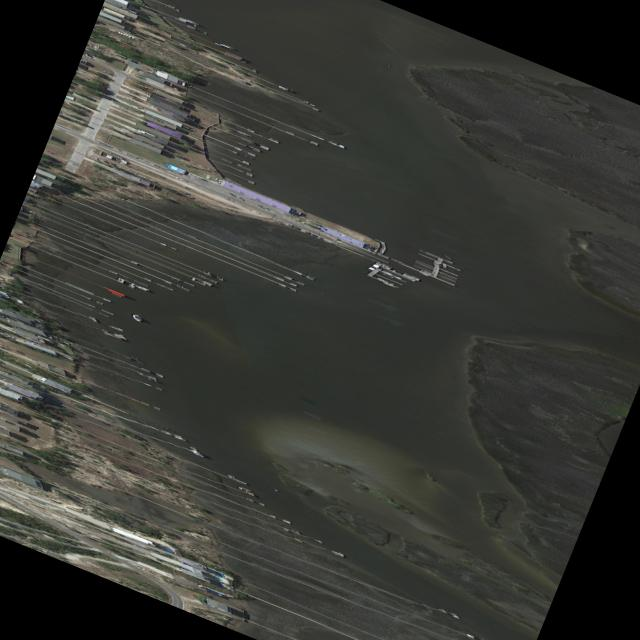ship: (380, 269, 404, 279), (176, 14, 198, 24), (377, 277, 394, 284), (219, 42, 235, 49), (119, 126, 134, 133), (131, 313, 142, 321), (248, 144, 261, 150), (134, 284, 147, 290), (173, 434, 186, 440), (418, 270, 430, 275), (192, 451, 204, 456), (442, 254, 453, 259), (338, 551, 346, 556), (374, 261, 381, 265), (384, 264, 391, 268), (410, 278, 417, 281), (0, 465, 3, 467)
small-vehicle: (225, 190, 237, 196), (99, 141, 111, 146), (142, 65, 153, 70), (128, 102, 139, 107), (137, 82, 148, 87), (102, 69, 113, 74), (175, 175, 186, 180), (197, 176, 209, 180), (3, 333, 15, 337), (234, 194, 243, 199), (256, 203, 265, 208), (83, 53, 92, 58), (6, 334, 15, 339), (142, 67, 152, 71), (223, 196, 233, 200), (128, 90, 138, 94), (181, 184, 191, 188), (261, 205, 270, 209), (124, 96, 132, 100), (0, 315, 8, 319), (304, 229, 309, 233), (312, 232, 316, 236), (0, 332, 5, 335), (317, 235, 321, 238)
